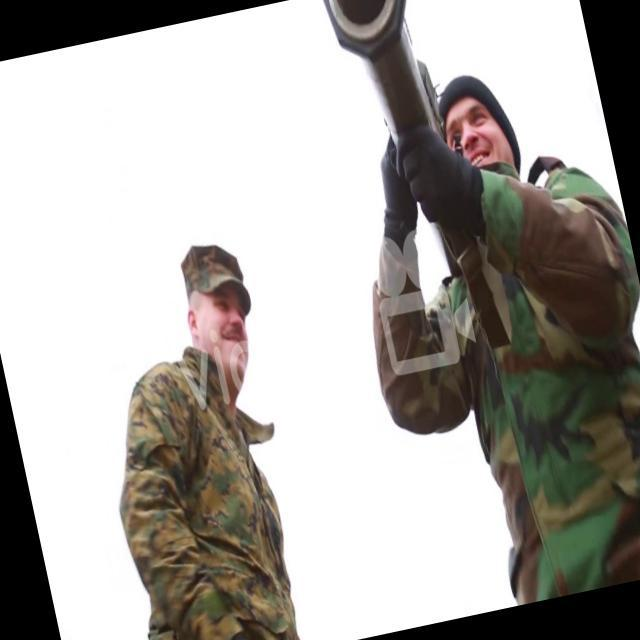rocket: (324, 0, 443, 151)
